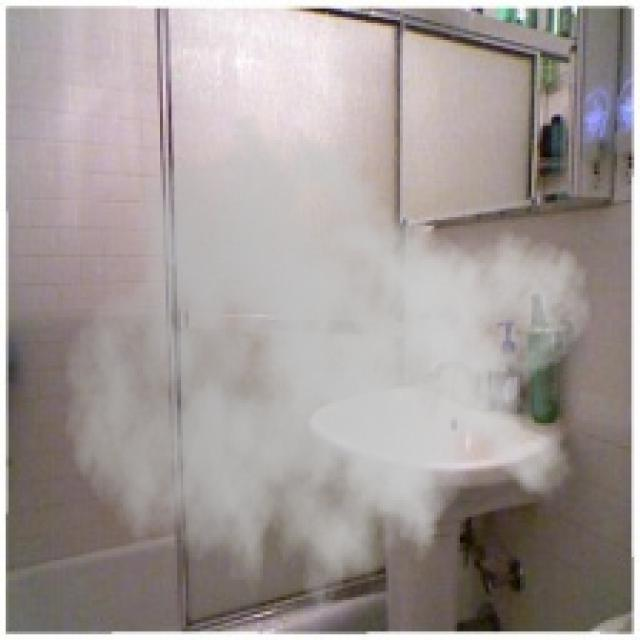smoke: (63, 100, 597, 637)
